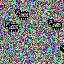sheep: (14, 8, 30, 21), (48, 19, 62, 30), (5, 21, 19, 32)
